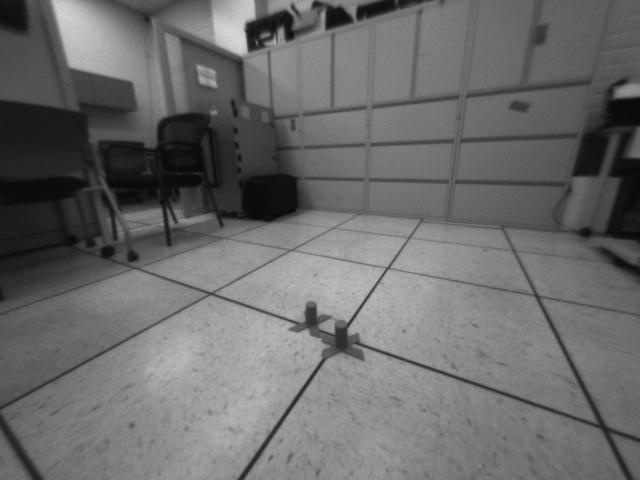X: (319, 319, 366, 367), (286, 299, 333, 338)
